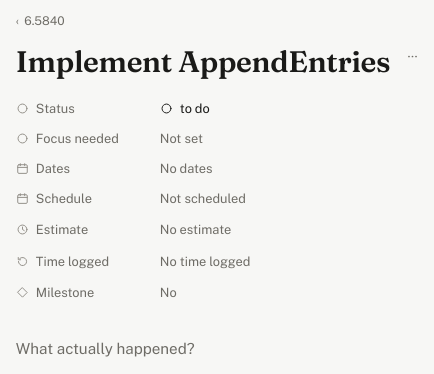
Scenario: logging actual time from the task inspector › logs from a preset and shows the running total
This screenshot has width=434, height=374.
Click the button named "Log time on \"Implement AppendEntries\"": x=205, y=262 [160, 250, 250, 274]
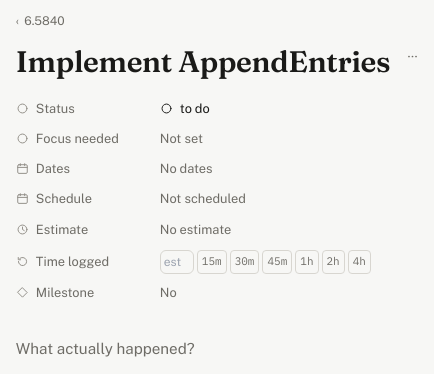
Click the button named "Log 1h on \"Implement AppendEntries\"": x=307, y=262 [295, 250, 318, 274]
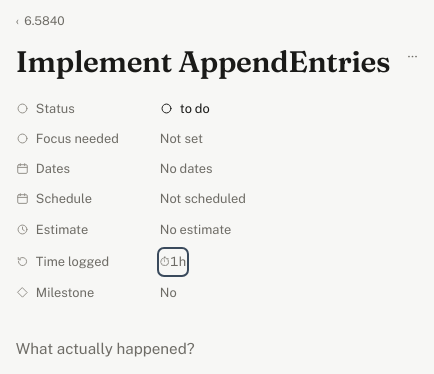
Expected: the button named "Logged 1h on \"Implement AppendEntries\". Log more" is shown, [160, 250, 186, 274]
